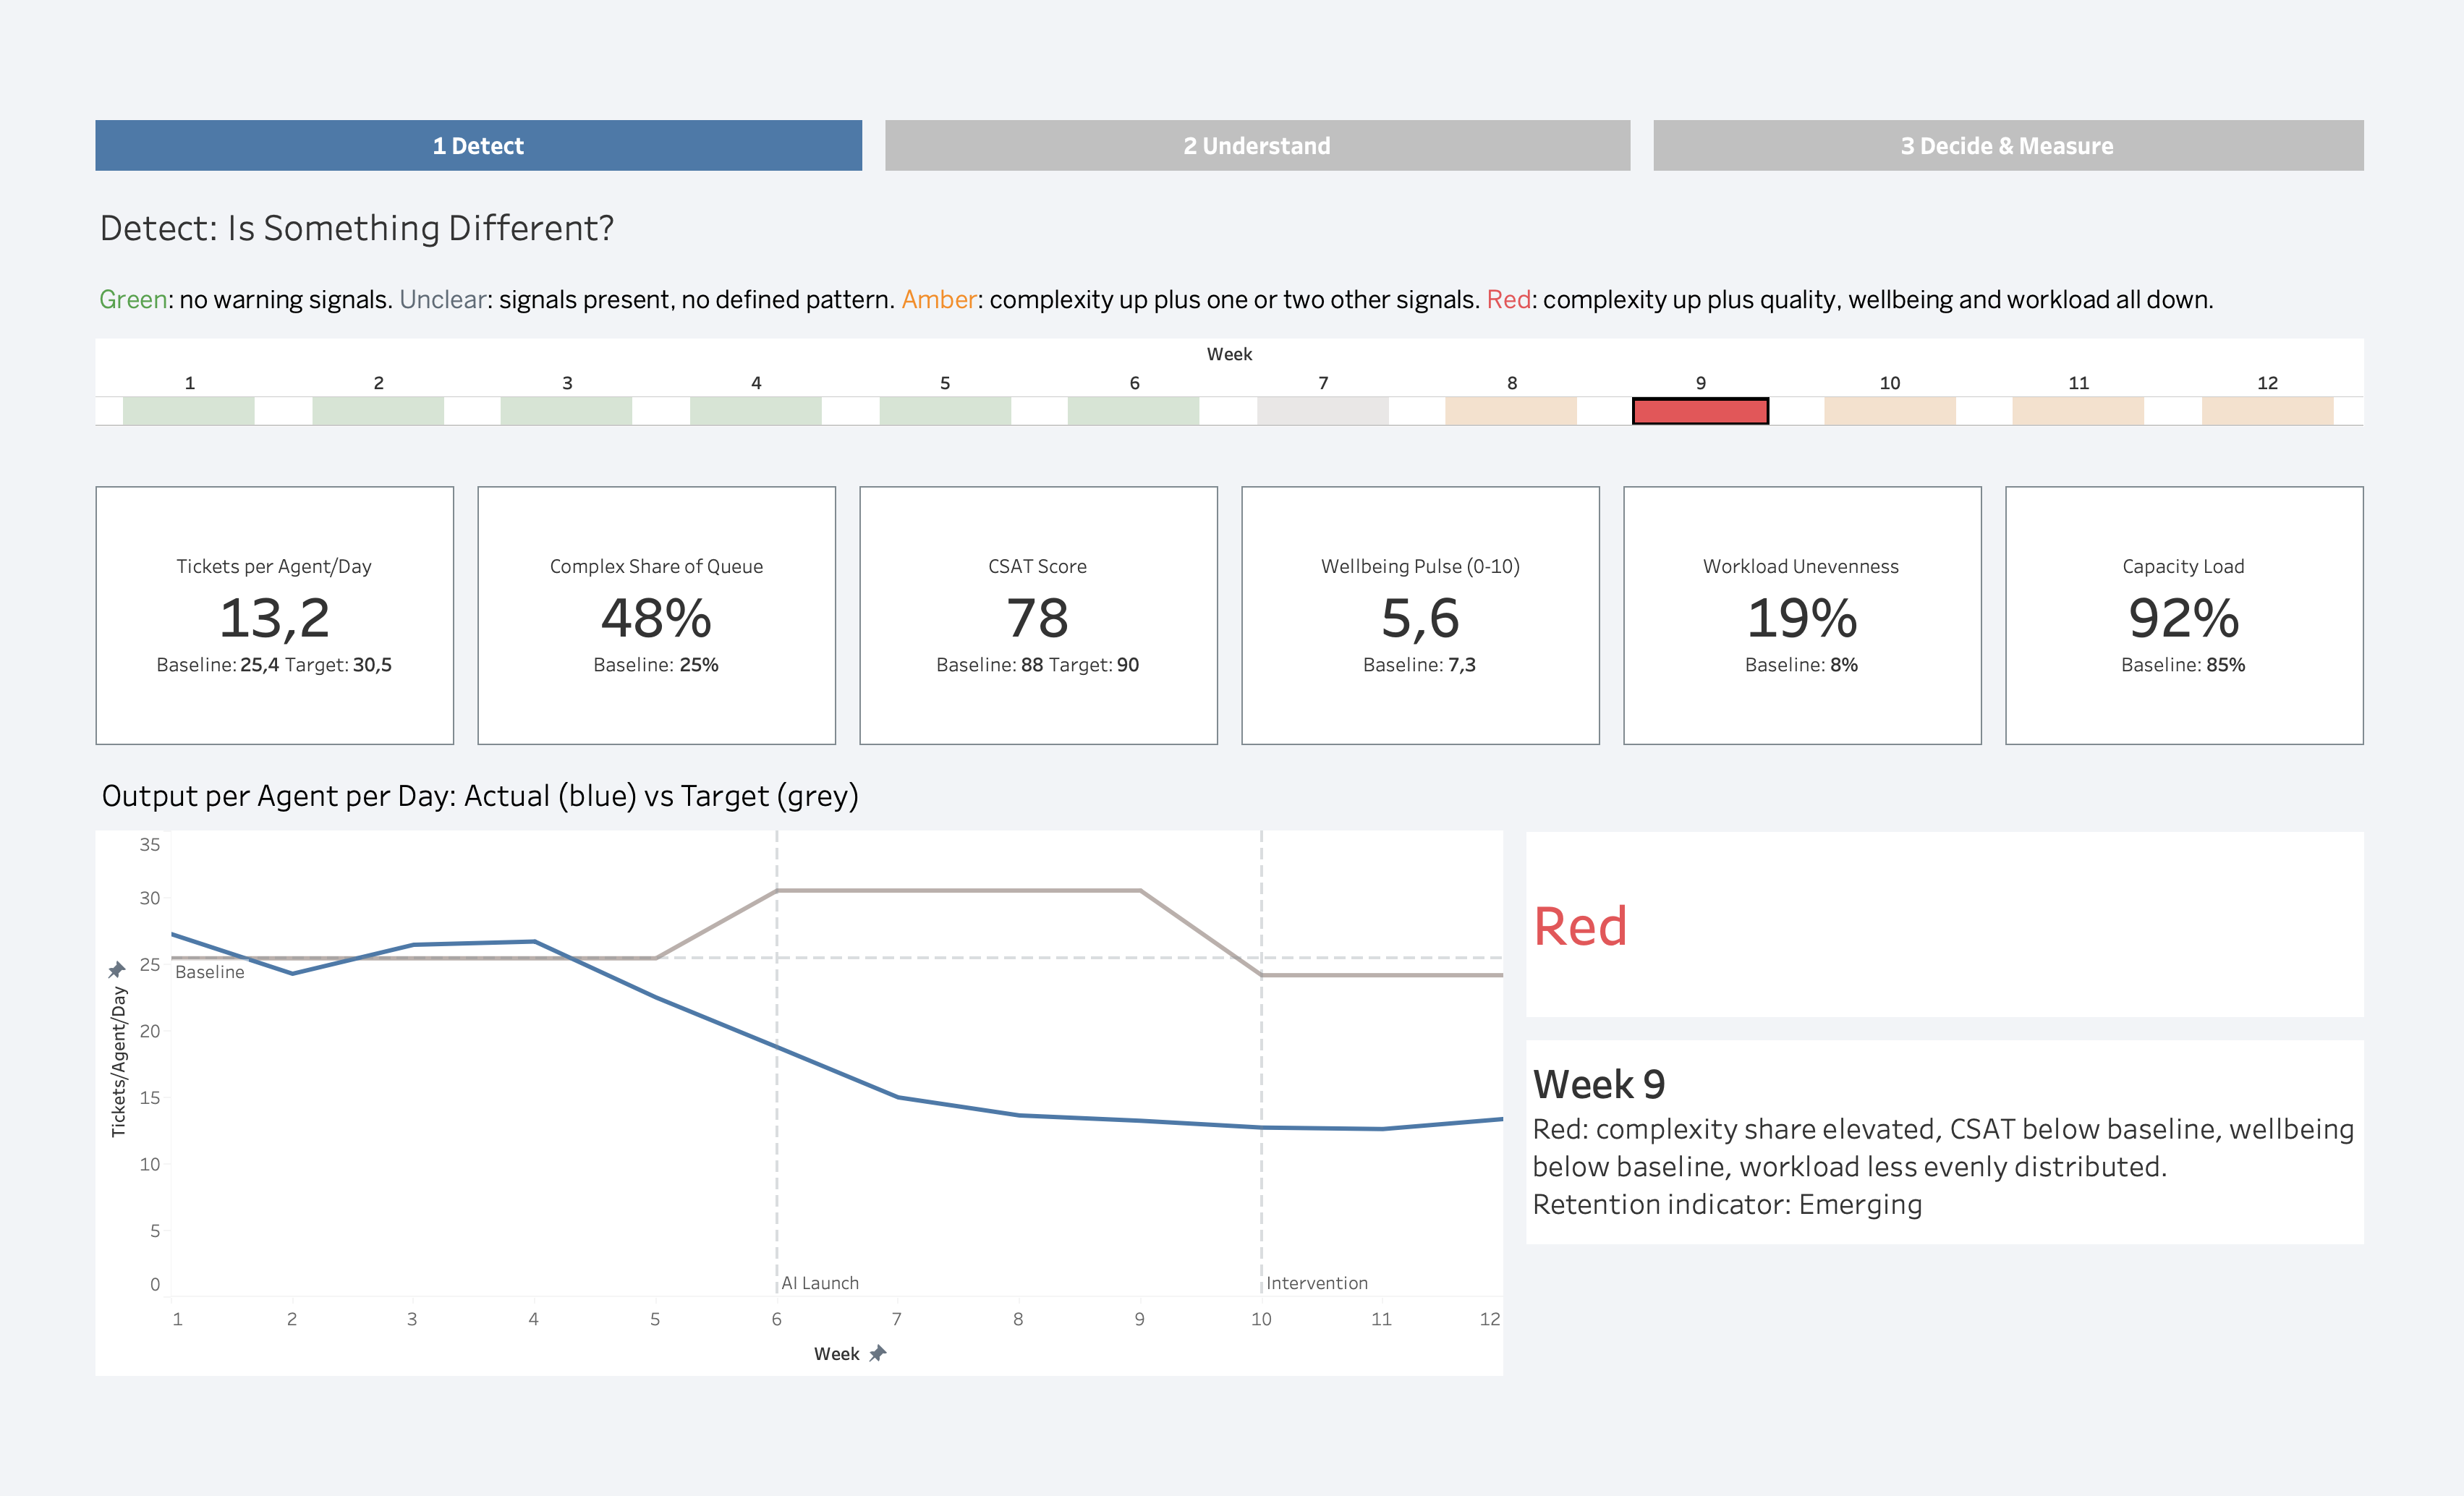

Layout of this report page (visuals, bound fields, positions):
{"tool":"tableau","page":{"name":"1 Detect","canvas":[1600,900],"ordinal":0},"visuals":[{"type":"dashboard-object","box":[8,8,545.8,50.7]},{"type":"dashboard-object","box":[553.8,8,531.1,50.7]},{"type":"dashboard-object","box":[1084.9,8,507.1,50.7]},{"type":"title","box":[8,58.7,1584,62]},{"type":"text","box":[8,120.7,1584,38]},{"type":"worksheet","title":"Weekly Status","mark":"Square","cols":["week"],"box":[8,158.7,1584,102.1]},{"type":"worksheet","title":"KPI Output","mark":"Automatic","box":[8,261,264,195]},{"type":"worksheet","title":"KPI Complexity","mark":"Automatic","box":[272,261,264,195]},{"type":"worksheet","title":"KPI CSAT","mark":"Automatic","box":[536,261,264,195]},{"type":"worksheet","title":"KPI Wellbeing","mark":"Automatic","box":[800,261,264,195]},{"type":"worksheet","title":"KPI Workload","mark":"Automatic","box":[1064,261,264,195]},{"type":"worksheet","title":"KPI Capacity","mark":"Automatic","box":[1328,261,264,195]},{"type":"worksheet","title":"Output per Agent per Day vs Target","mark":"Automatic","cols":["week"],"box":[8,456.4,988.7,435.6]},{"type":"worksheet","title":"Status Badge","mark":"Automatic","box":[996.7,456.4,595.3,188]},{"type":"worksheet","title":"Why This Week","mark":"Automatic","box":[996.7,644.4,595.3,192]}]}

Visuals, with their boxes on the page's 1600x900 design canvas (x1, y1, x2, y2). These are canvas units, not pixel positions in the 2464x1496 screenshot, which may show the page scaled, cropped or inside an application window:
dashboard-object: l=8, t=8, r=554, b=59
dashboard-object: l=554, t=8, r=1085, b=59
dashboard-object: l=1085, t=8, r=1592, b=59
title: l=8, t=59, r=1592, b=121
text: l=8, t=121, r=1592, b=159
"Weekly Status" worksheet (Square marks): l=8, t=159, r=1592, b=261
"KPI Output" worksheet: l=8, t=261, r=272, b=456
"KPI Complexity" worksheet: l=272, t=261, r=536, b=456
"KPI CSAT" worksheet: l=536, t=261, r=800, b=456
"KPI Wellbeing" worksheet: l=800, t=261, r=1064, b=456
"KPI Workload" worksheet: l=1064, t=261, r=1328, b=456
"KPI Capacity" worksheet: l=1328, t=261, r=1592, b=456
"Output per Agent per Day vs Target" worksheet: l=8, t=456, r=997, b=892
"Status Badge" worksheet: l=997, t=456, r=1592, b=644
"Why This Week" worksheet: l=997, t=644, r=1592, b=836
